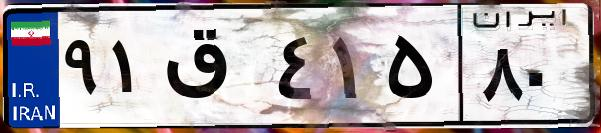0: (525, 38, 570, 115)
1: (330, 28, 385, 110), (110, 28, 158, 98)
4: (270, 28, 330, 110)
5: (385, 28, 445, 110)
8: (475, 38, 525, 113)
9: (57, 26, 110, 100)
ق: (158, 20, 270, 120)
